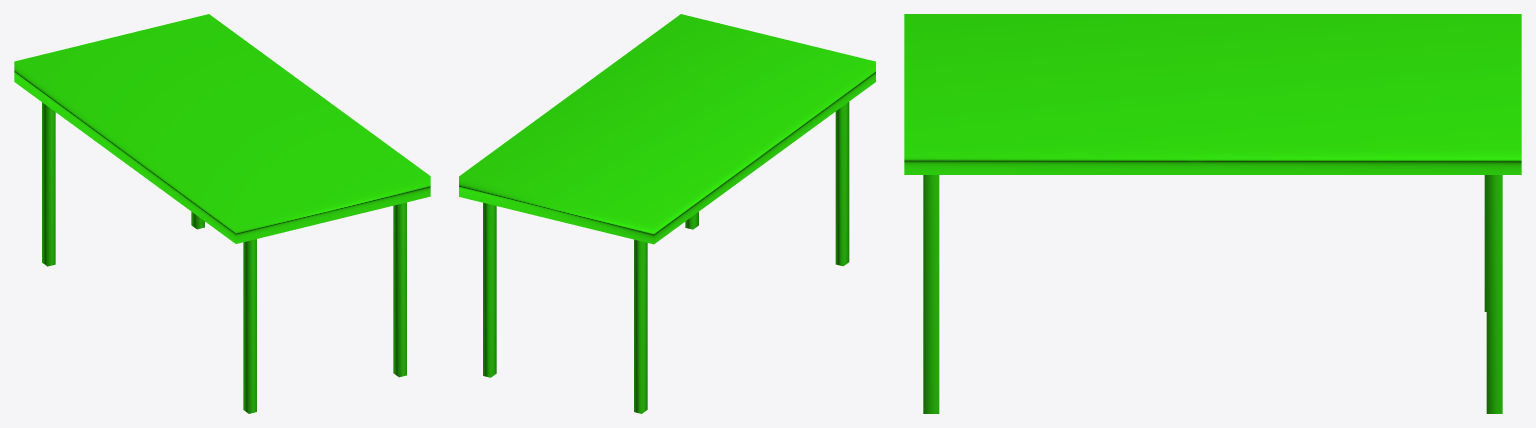
File: Table_Kitchen_01_Lod2.fbx
The picture shows the model from 3 angles, left to right: view 1: azimuth 30°, elevation 25°; view 2: azimuth 150°, elevation 25°; view 3: azimuth 270°, elevation 25°; orthographic projection. The views are drawn at different scales.
Visible parts, largest first — view 1: Table_Kitchen_01_Lod2; view 2: Table_Kitchen_01_Lod2; view 3: Table_Kitchen_01_Lod2.
Boxes of the visible parts, x1=… form: Table_Kitchen_01_Lod2: x1=14, y1=14, x2=430, y2=413; Table_Kitchen_01_Lod2: x1=459, y1=14, x2=875, y2=413; Table_Kitchen_01_Lod2: x1=904, y1=14, x2=1521, y2=413.
Bounding box in the file's own units: 78.28 × 76.91 × 154.
